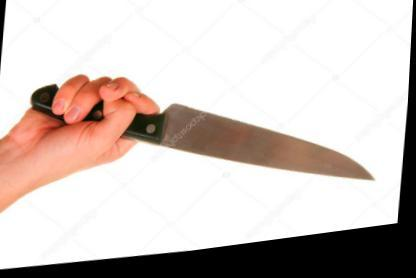knife: (55, 45, 394, 232)
